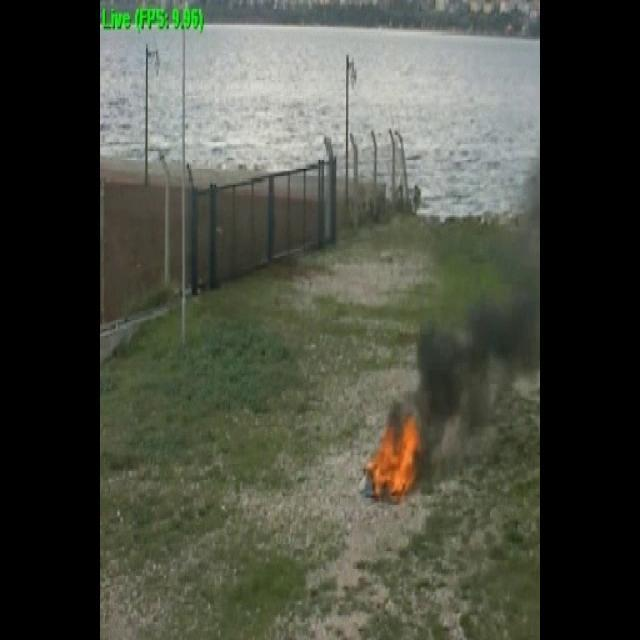Fire: (364, 407, 424, 507)
Smoke: (389, 159, 541, 479)
